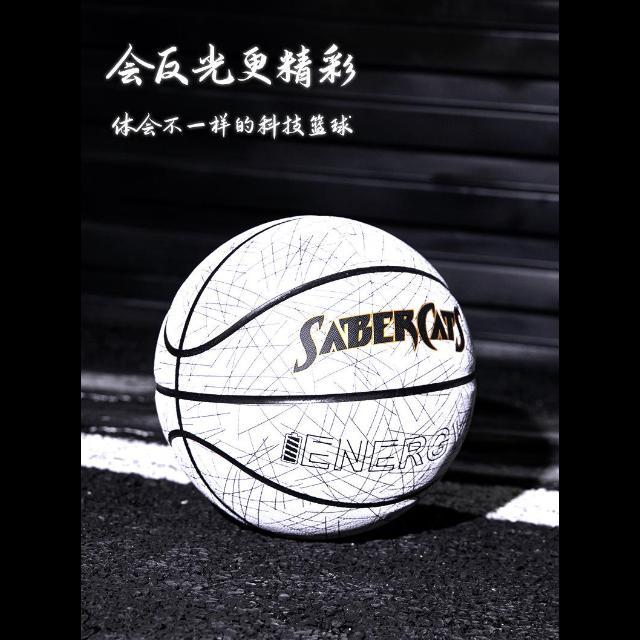basketball: (153, 215, 473, 537)
